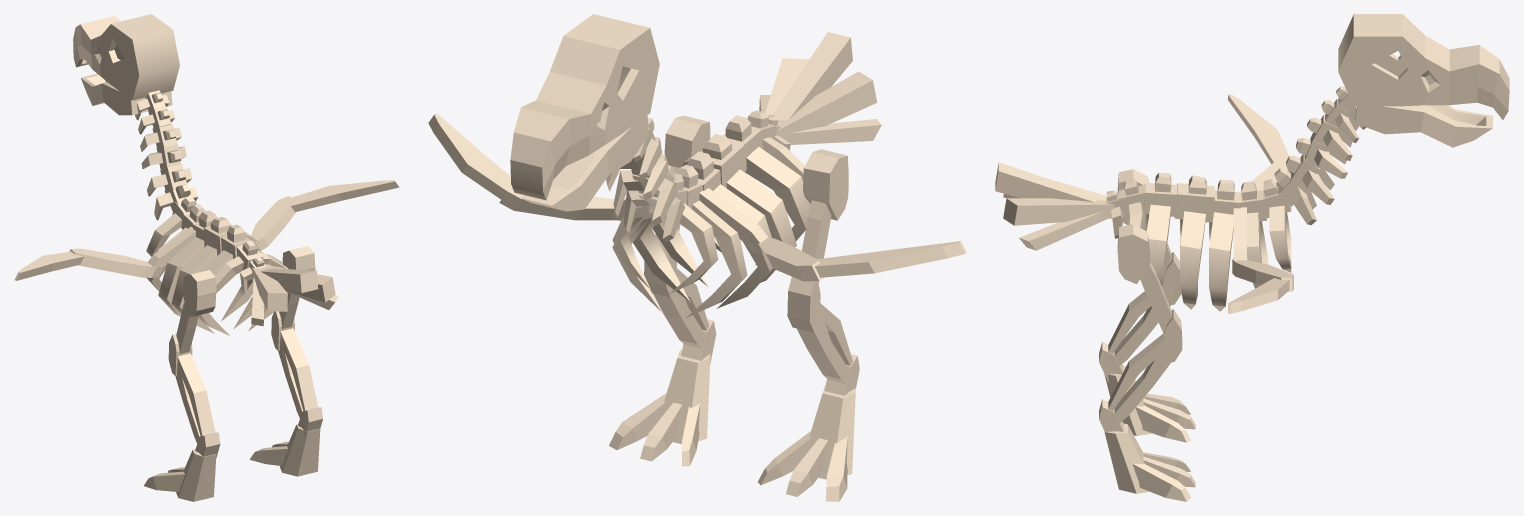
File: skeleton_dodo.obj
The picture shows the model from 3 angles, left to right: view 1: azimuth 30°, elevation 25°; view 2: azimuth 150°, elevation 25°; view 3: azimuth 270°, elevation 25°; orthographic projection. The views are drawn at different scales.
Visible parts, largest first — view 1: Head, Torso, Meshes/set_10_trex_029, Tail, RightArm, LeftArm, LeftAltLeg, RightAltLeg, Meshes/set_10_trex_030 (1), LeftLeg, Meshes/set_10_dodo_013 (1), LeftAltLegBottom (+4 smaller); view 2: Head, Meshes/set_10_trex_029, Torso, Tail, LeftArm, RightArm, LeftAltLeg, LeftLeg, Meshes/set_10_trex_030 (1), RightFoot, LeftFoot, Meshes/set_10_dodo_013 (1) (+4 smaller); view 3: Head, Torso, Meshes/set_10_trex_029, Tail, Meshes/set_10_trex_030 (1), RightAltLeg, RightLeg, LeftAltLeg, Neck, Meshes/set_10_dodo_013 (1), RightArm, RightFoot (+4 smaller).
Boxes of the visible parts, bbox=[...] form: Head: bbox=[73, 14, 179, 115]; Torso: bbox=[171, 217, 288, 335]; Meshes/set_10_trex_029: bbox=[146, 196, 259, 321]; Tail: bbox=[251, 265, 338, 326]; RightArm: bbox=[251, 180, 399, 251]; LeftArm: bbox=[14, 248, 163, 280]; LeftAltLeg: bbox=[168, 333, 215, 443]; RightAltLeg: bbox=[271, 311, 318, 417]; Meshes/set_10_trex_030 (1): bbox=[141, 144, 197, 220]; LeftLeg: bbox=[176, 270, 216, 353]; Meshes/set_10_dodo_013 (1): bbox=[279, 407, 322, 476]; LeftAltLegBottom: bbox=[176, 432, 220, 501]; Head: bbox=[510, 14, 659, 211]; Meshes/set_10_trex_029: bbox=[612, 151, 772, 317]; Torso: bbox=[652, 110, 810, 286]; Tail: bbox=[759, 32, 881, 144]; LeftArm: bbox=[758, 237, 966, 281]; RightArm: bbox=[428, 113, 621, 220]; LeftAltLeg: bbox=[787, 276, 852, 383]; LeftLeg: bbox=[802, 149, 848, 284]; Meshes/set_10_trex_030 (1): bbox=[606, 136, 684, 242]; RightFoot: bbox=[609, 393, 700, 466]; LeftFoot: bbox=[758, 431, 847, 501]; Meshes/set_10_dodo_013 (1): bbox=[660, 319, 716, 444]; Head: bbox=[1338, 14, 1509, 147]; Torso: bbox=[1105, 172, 1214, 309]; Meshes/set_10_trex_029: bbox=[1206, 179, 1291, 311]; Tail: bbox=[995, 162, 1114, 250]; Meshes/set_10_trex_030 (1): bbox=[1274, 134, 1347, 225]; RightAltLeg: bbox=[1108, 309, 1182, 423]; RightLeg: bbox=[1117, 224, 1172, 335]; LeftAltLeg: bbox=[1108, 252, 1181, 365]; Neck: bbox=[1307, 86, 1365, 160]; Meshes/set_10_dodo_013 (1): bbox=[1099, 399, 1149, 493]; RightArm: bbox=[1228, 257, 1293, 313]; RightFoot: bbox=[1132, 452, 1195, 501].
Bounding box in the file's own units: 4.55 × 4.27 × 4.62.
